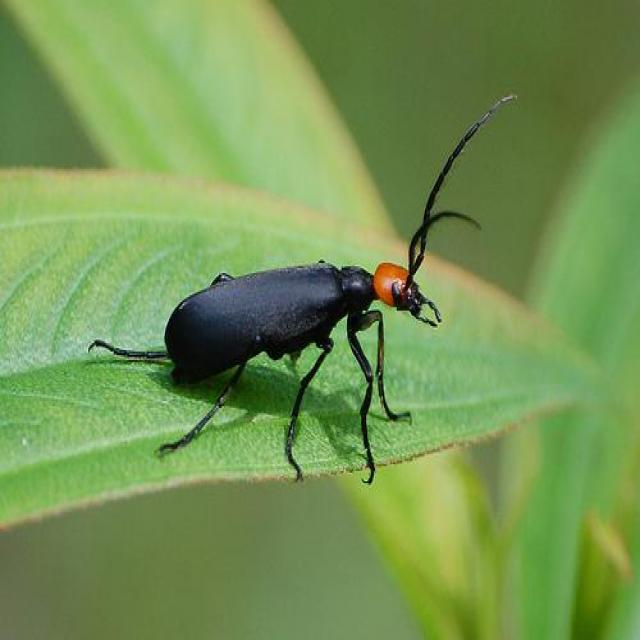BlisterBeetle-Adult-: (72, 91, 521, 493)
